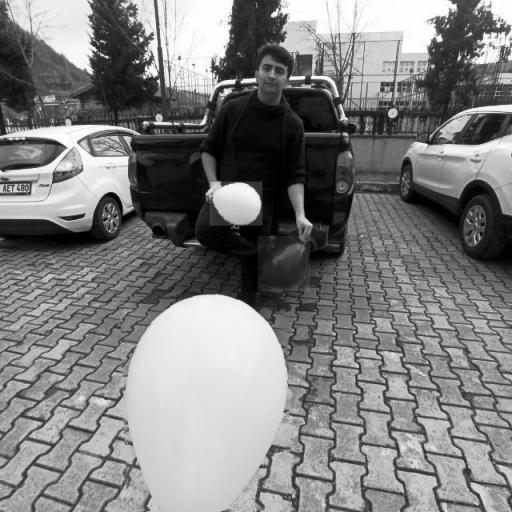balloon: (121, 292, 290, 512), (258, 236, 310, 291), (210, 182, 262, 226)
